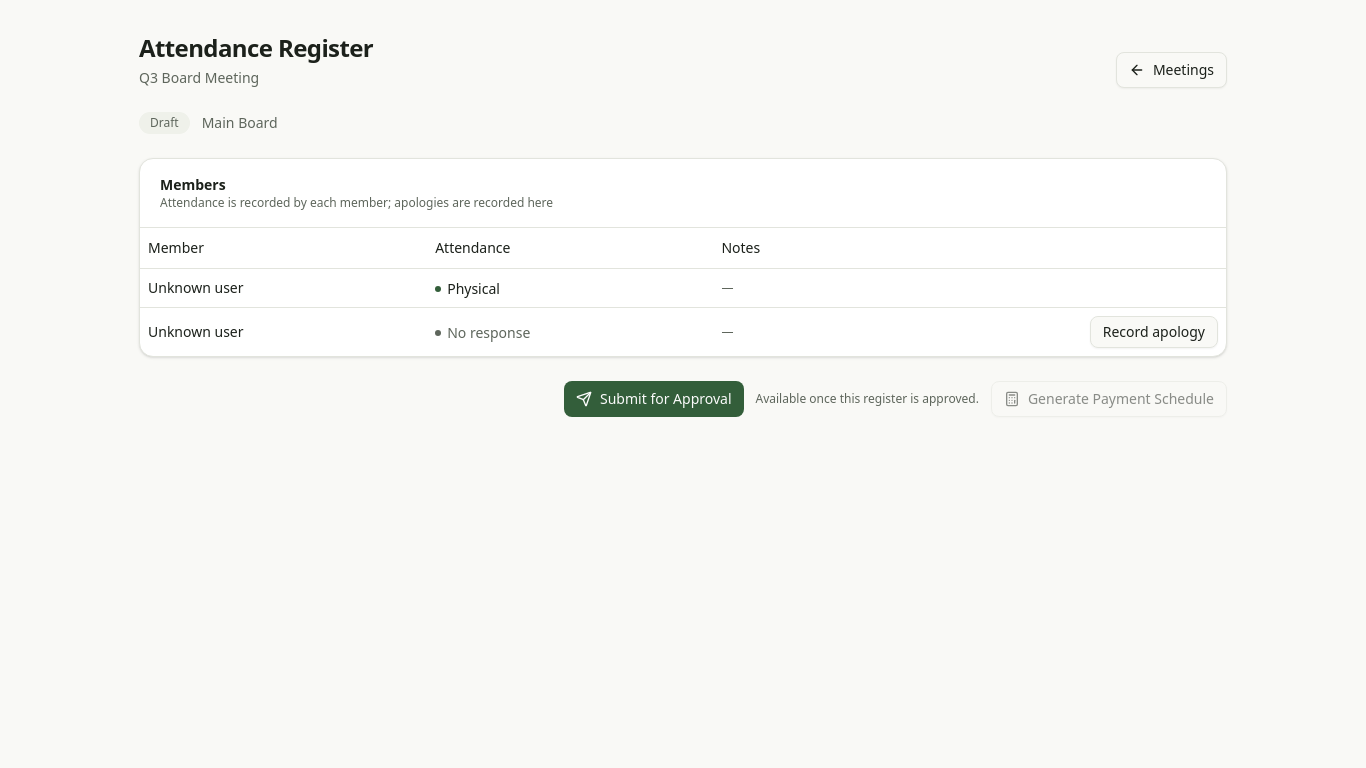
Test: StaffAttendanceRegister › Legal Officer records an apology for a member with no response
Expected: the text "Q3 Board Meeting" is shown, x1=139 y1=68 x2=259 y2=87
Click the button "Record apology": (1154,332) x1=1090 y1=316 x2=1218 y2=348
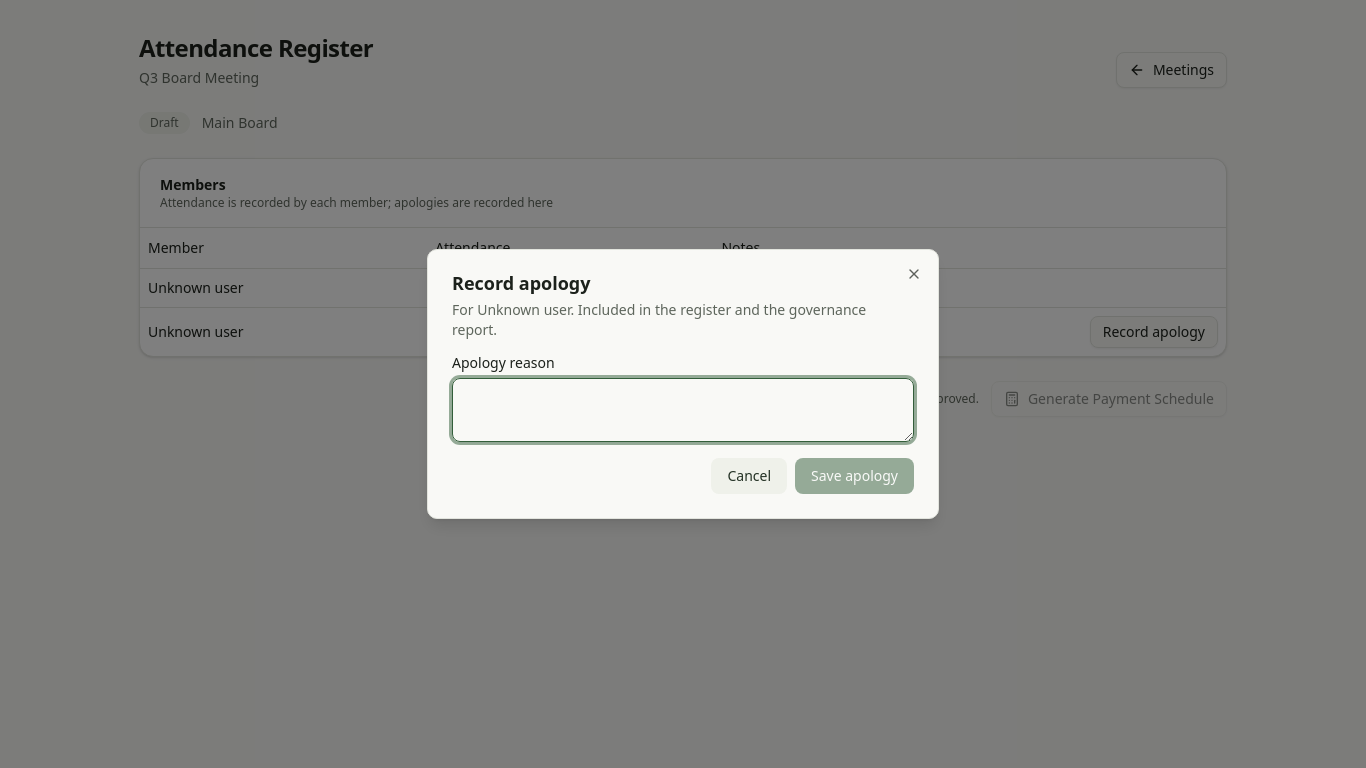
In the text box labelled "Apology reason": (683,410) x1=452 y1=378 x2=914 y2=442, type "Travelling"
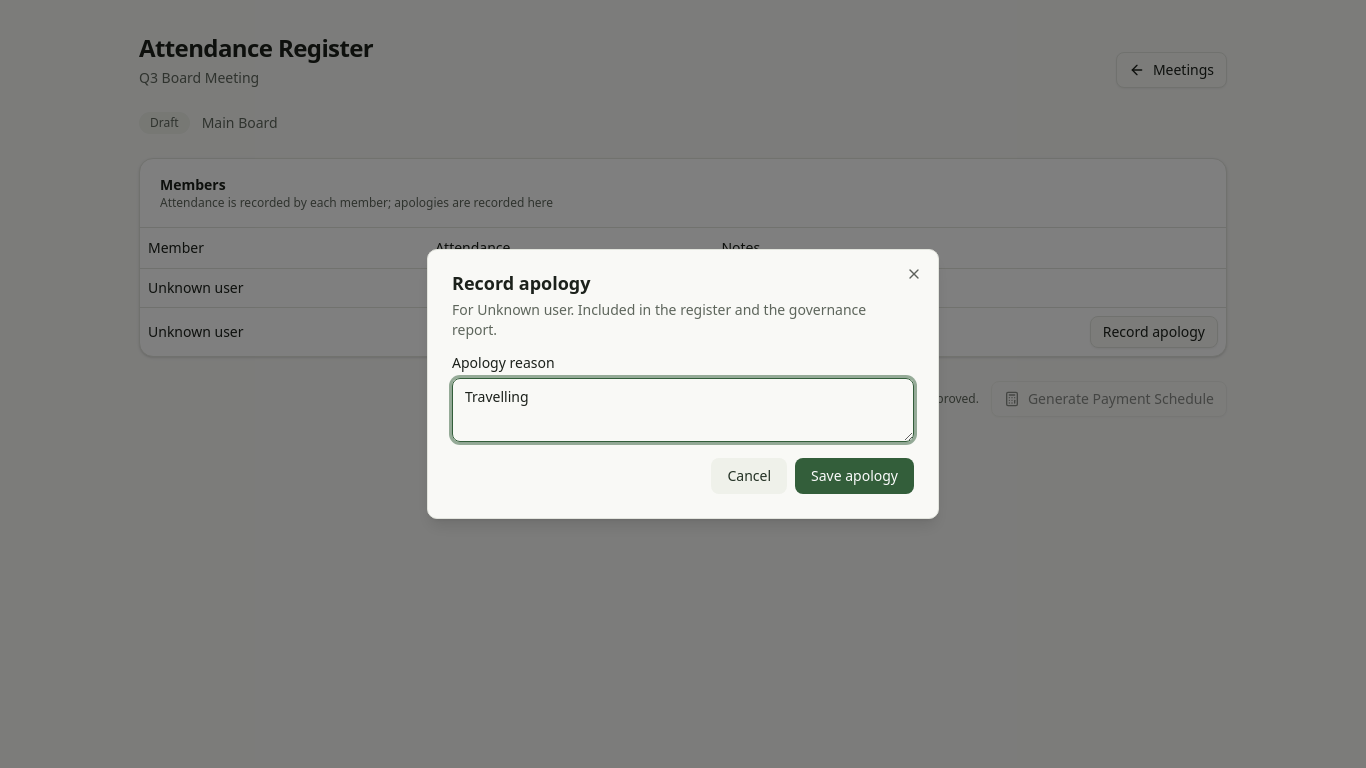
Click the button "Save apology": (854,476) x1=795 y1=458 x2=914 y2=494
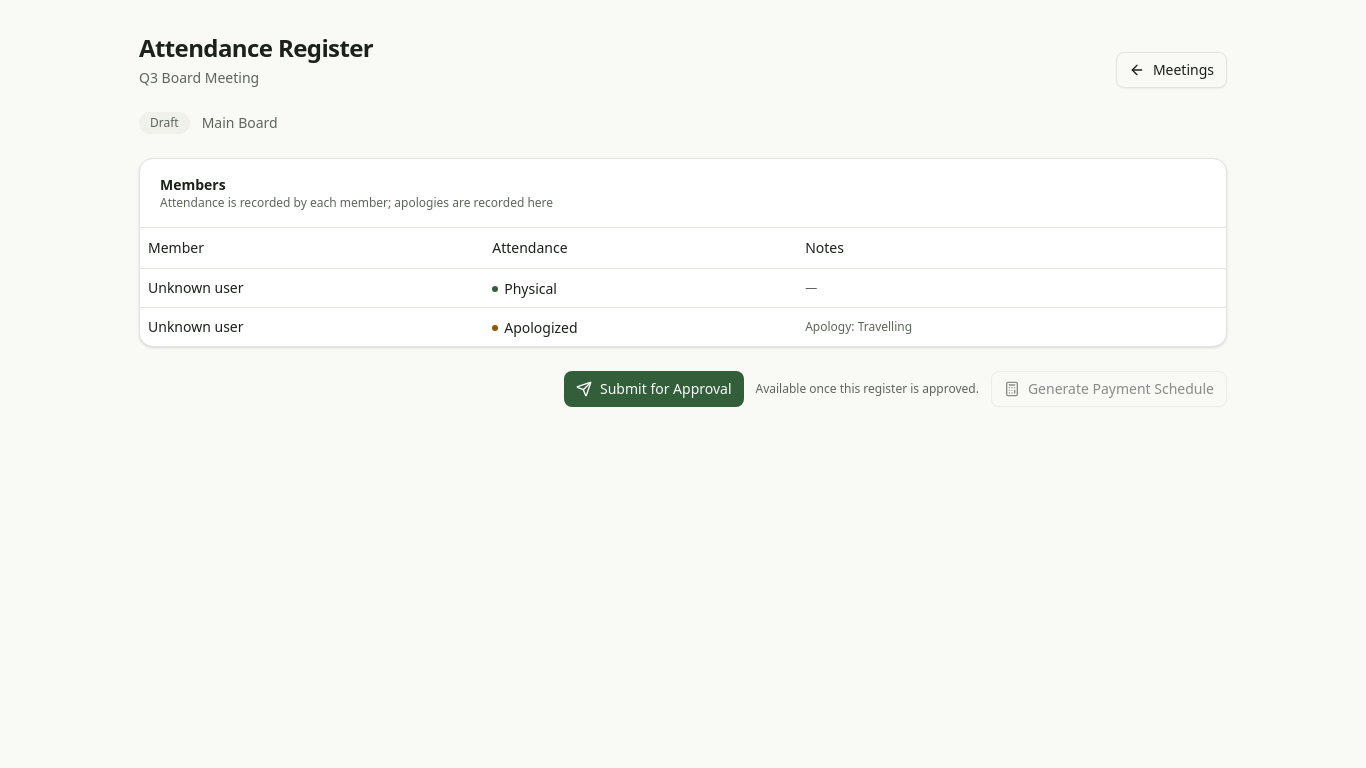
Now the text "Apologized" is shown, box x1=492 y1=318 x2=578 y2=338
